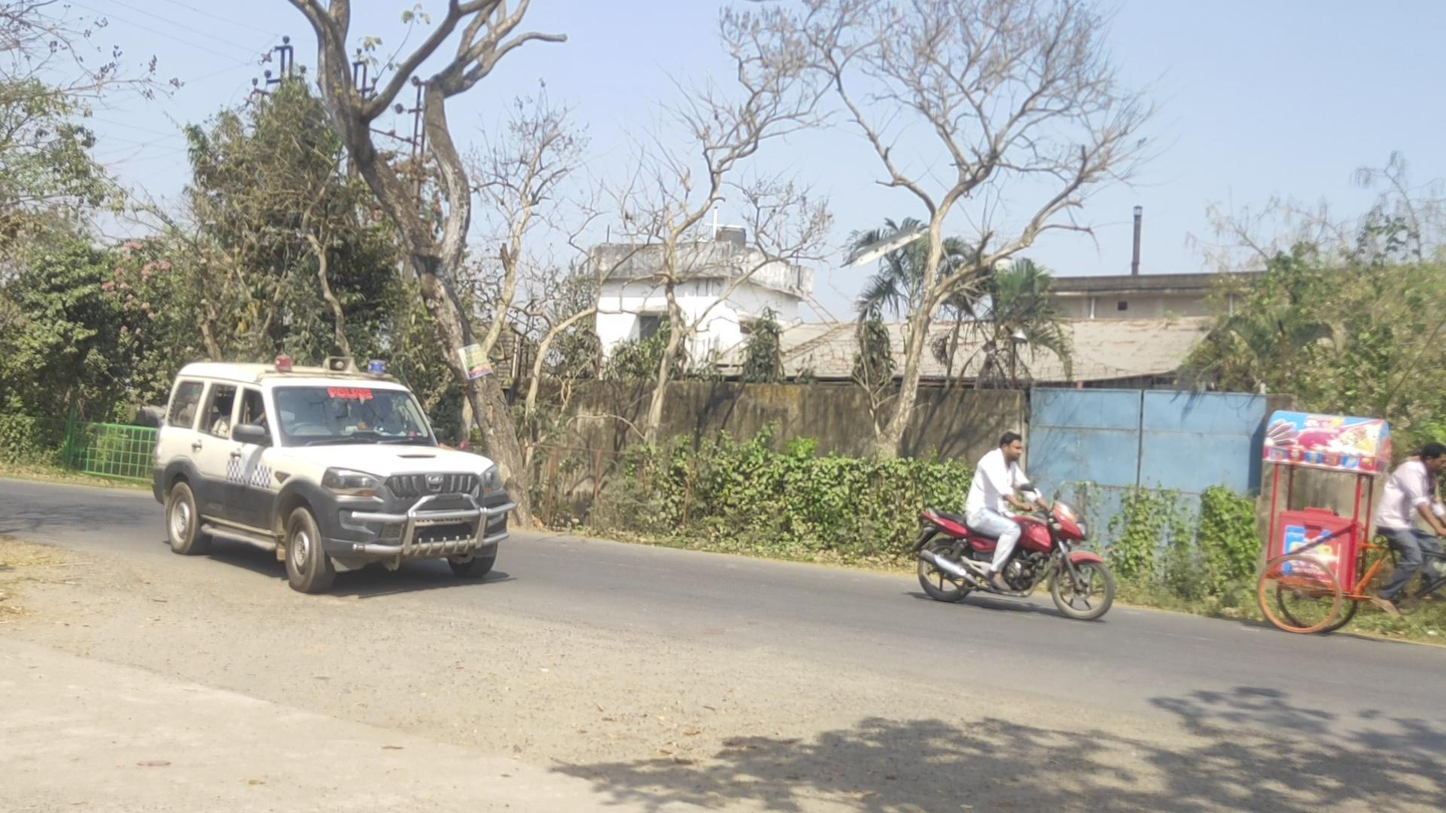bike: (911, 433, 1115, 622)
car: (152, 354, 517, 595)
